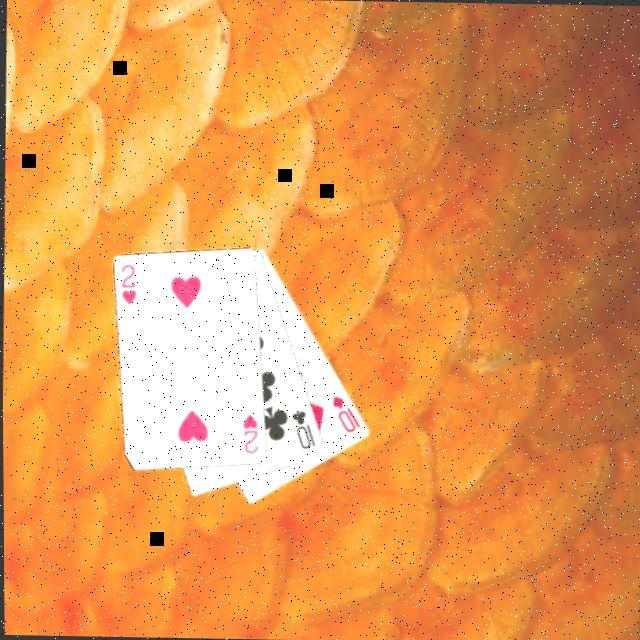10C: (286, 407, 316, 454)
10D: (326, 393, 362, 438)
2H: (236, 412, 259, 458), (114, 263, 137, 309)
